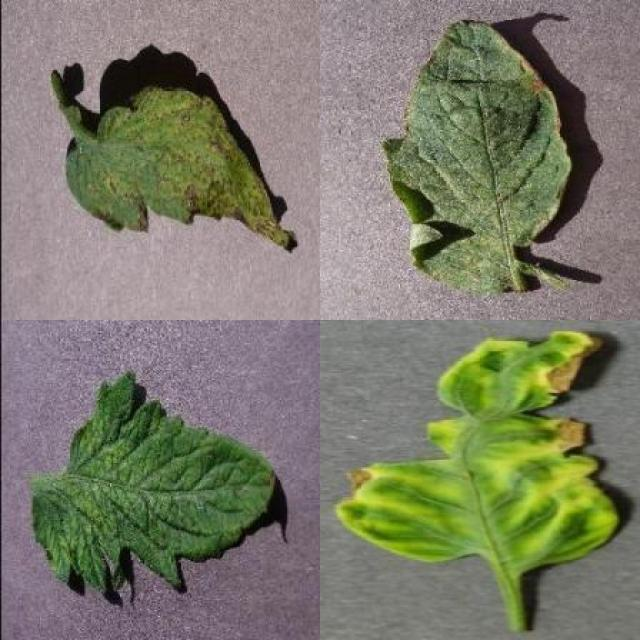Mosaic Virus: (30, 369, 276, 594)
Septoria: (62, 84, 298, 250)
Spider Mites: (381, 19, 572, 294)
Yellow Leaf Curl Virus: (335, 329, 622, 565)
